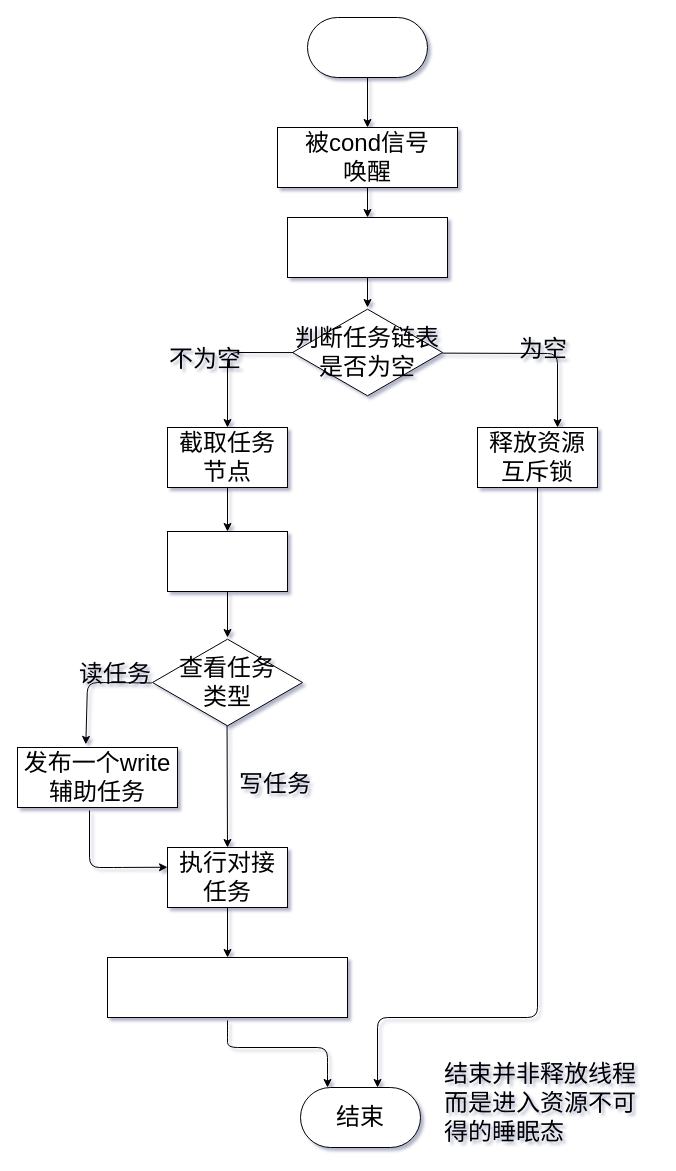
This 676x1171 diagram has some shape labels left out. Each missing label, with the centre of its shape:
"完成任务释放对接用户节点资源" belongs at point (227, 987).
"开始" belongs at point (367, 47).
"获取资源 互斥锁" belongs at point (367, 247).
"释放资 互斥锁" belongs at point (227, 561).
